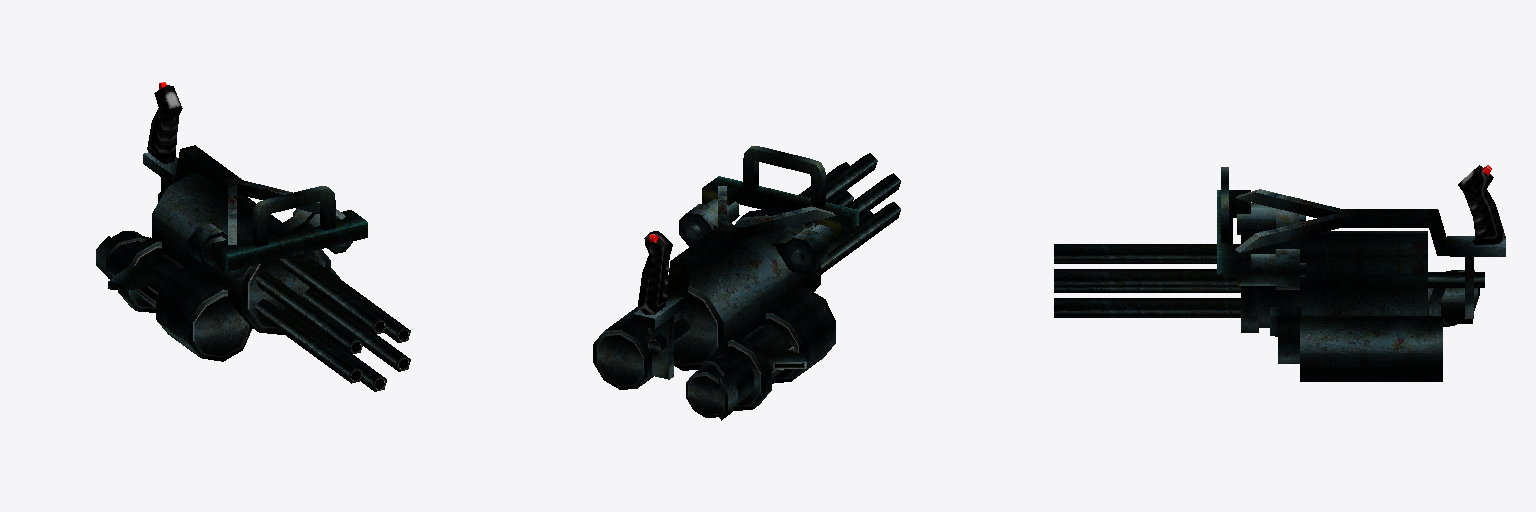
The picture shows the model from 3 angles: view 1: azimuth 30°, elevation 25°; view 2: azimuth 150°, elevation 25°; view 3: azimuth 270°, elevation 25°; orthographic projection.
Visible parts, largest first — view 1: default; view 2: default; view 3: default.
Part boxes in pixels (x1,y1,x2,y2): default: (96,82,410,391); default: (593,146,900,420); default: (1054,165,1505,381).
Bounding box in the file's own units: 4.07 × 3.97 × 8.52.
1 materials, 1 textured.